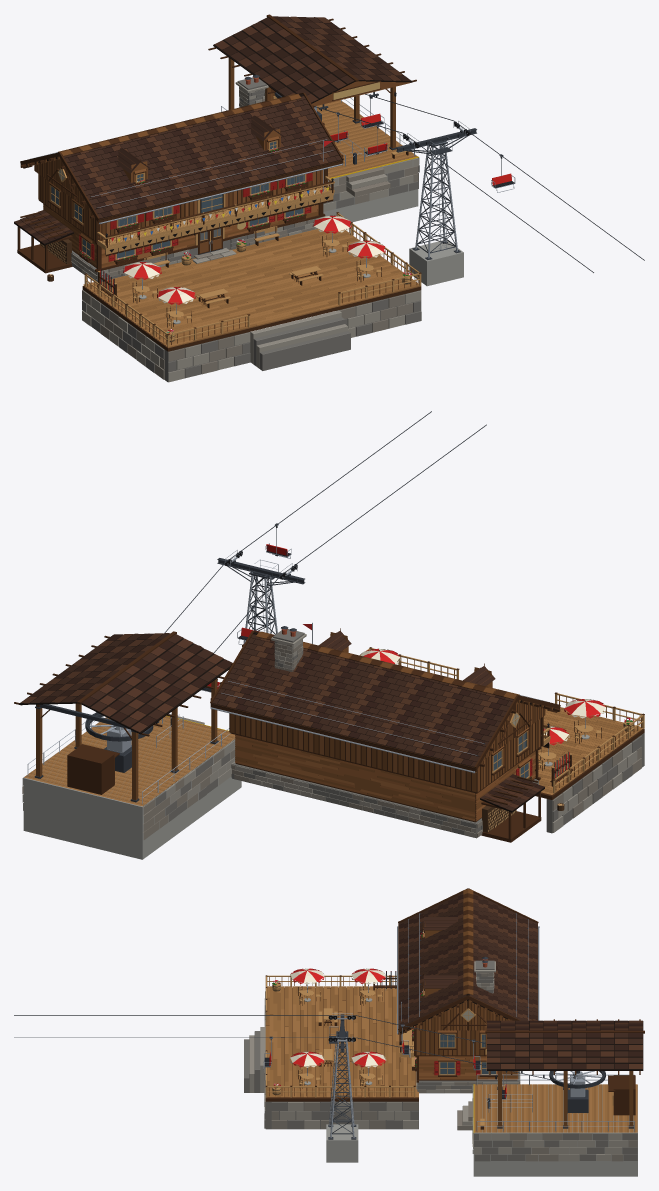
File: lodge.glb
3 views of the same model, one above another, from view 1: azimuth 30°, elevation 25°; view 2: azimuth 150°, elevation 25°; view 3: azimuth 270°, elevation 25° (orthographic). The views are drawn at different scales.
Parts seen in each view (by area): view 1: lodge_terrace, lodge_roof, chairlift_station, lodge_building, chairlift_pylon, lodge_balcony, lodge_furniture, lodge_woodpile, lodge_railings, lodge_flowers, chairlift_cable; view 2: chairlift_station, lodge_roof, lodge_building, lodge_terrace, lodge_woodpile, chairlift_pylon, lodge_furniture, lodge_railings, chairlift_cable; view 3: chairlift_station, lodge_terrace, lodge_roof, lodge_building, lodge_furniture, chairlift_pylon, lodge_railings, chairlift_cable.
Part boxes in pixels (<box>): lodge_terrace: <box>82,228,421,382</box>; lodge_roof: <box>20,74,343,224</box>; chairlift_station: <box>208,14,419,222</box>; lodge_building: <box>34,159,327,281</box>; chairlift_pylon: <box>396,121,476,286</box>; lodge_balcony: <box>97,140,334,256</box>; lodge_furniture: <box>123,215,411,342</box>; lodge_woodpile: <box>14,210,73,281</box>; lodge_railings: <box>84,212,421,346</box>; lodge_flowers: <box>79,148,411,335</box>; chairlift_cable: <box>314,94,644,272</box>; chairlift_station: <box>14,631,241,859</box>; lodge_roof: <box>210,626,560,773</box>; lodge_building: <box>229,703,545,838</box>; lodge_terrace: <box>535,707,644,833</box>; lodge_woodpile: <box>480,774,564,842</box>; chairlift_pylon: <box>217,550,305,644</box>; lodge_furniture: <box>360,648,633,770</box>; lodge_railings: <box>360,647,644,793</box>; chairlift_cable: <box>87,411,486,729</box>; chairlift_station: <box>457,1019,644,1176</box>; lodge_terrace: <box>244,986,418,1129</box>; lodge_roof: <box>397,888,539,1034</box>; lodge_building: <box>413,1000,520,1093</box>; lodge_furniture: <box>272,968,416,1095</box>; chairlift_pylon: <box>326,1013,358,1162</box>; lodge_railings: <box>265,975,415,1097</box>; chairlift_cable: <box>14,1015,604,1084</box>.
Size of the model in its own units: 37.58 by 15.14 by 57.65.
